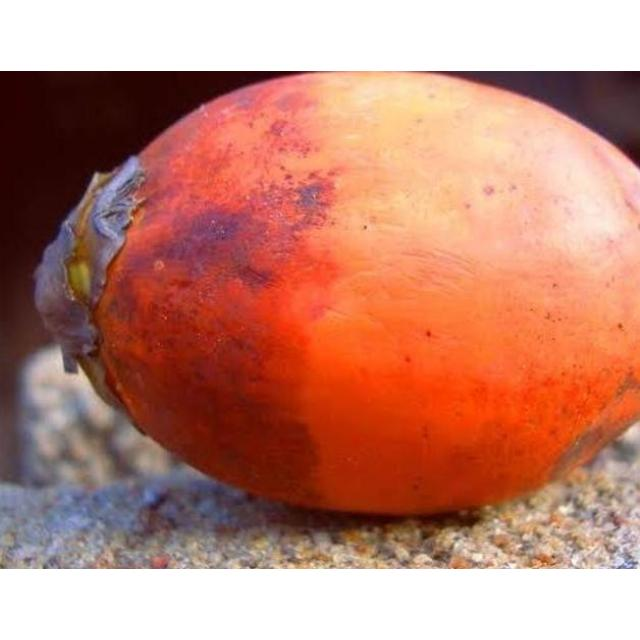good: (35, 71, 639, 520)
